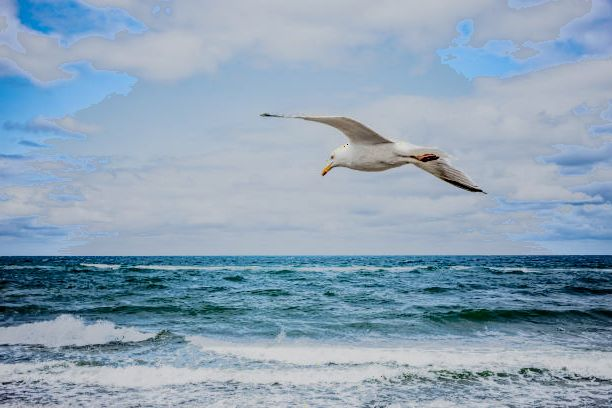Bird: (257, 109, 495, 199)
